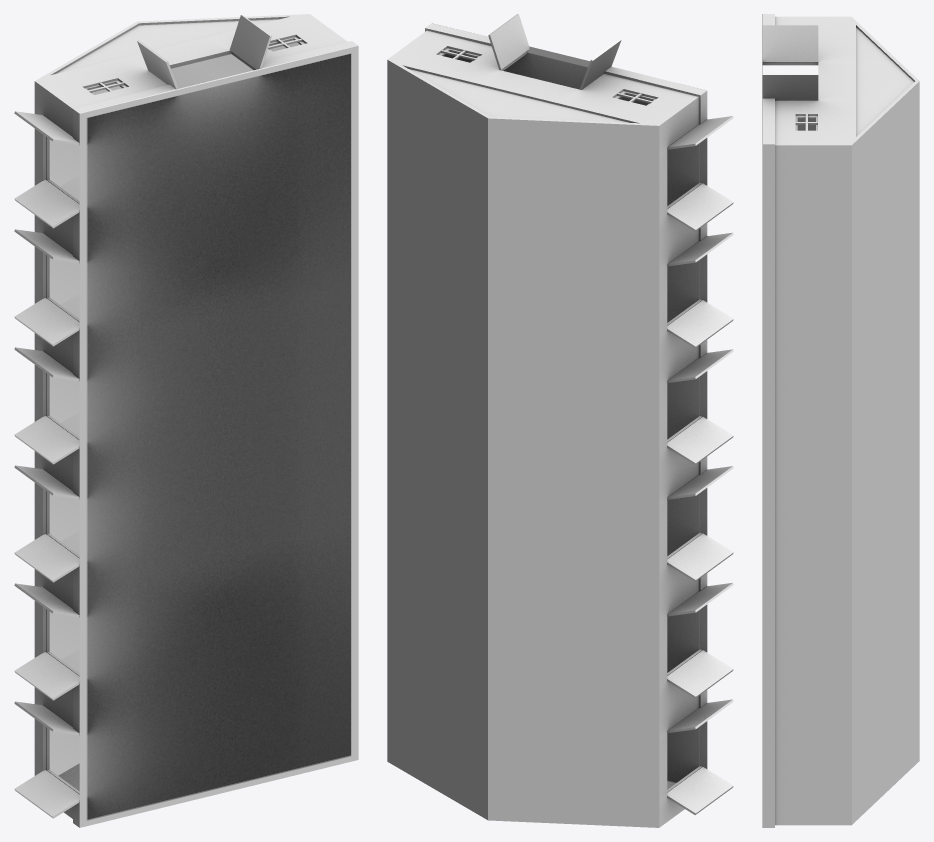
The model's file is Garage.fbx.
The picture shows the model from 3 angles, left to right: view 1: azimuth 30°, elevation 25°; view 2: azimuth 150°, elevation 25°; view 3: azimuth 270°, elevation 25°; orthographic projection. The views are drawn at different scales.
Parts seen in each view (by area): view 1: Гараж.001; view 2: Гараж.001; view 3: Гараж.001.
Part boxes in pixels (box(x1,y1,x2,y2)): Гараж.001: box(14, 14, 358, 827); Гараж.001: box(387, 14, 733, 827); Гараж.001: box(762, 14, 919, 827).
Size of the model in its own units: 108 by 50.53 by 252.
